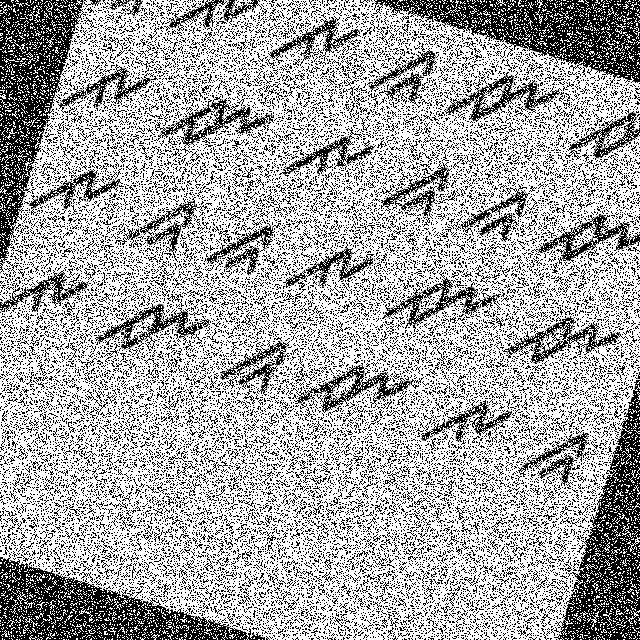a: (409, 374, 529, 477), (23, 138, 133, 242), (270, 103, 382, 202), (270, 215, 380, 313), (51, 36, 160, 134), (256, 0, 369, 89), (0, 246, 101, 338), (160, 0, 274, 61)
ngga: (190, 196, 282, 298), (207, 312, 301, 409), (510, 403, 602, 500), (116, 179, 205, 268), (361, 31, 445, 115), (376, 148, 457, 235), (454, 172, 538, 255), (84, 0, 174, 32)
nja: (501, 287, 634, 397), (84, 278, 217, 386), (374, 249, 504, 357), (286, 332, 416, 439), (150, 70, 279, 174), (440, 51, 566, 156), (530, 183, 639, 292), (564, 82, 639, 190)
